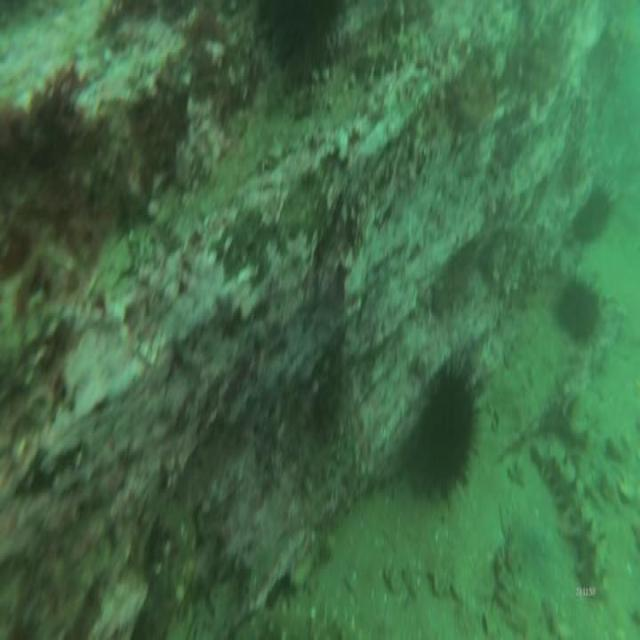echinus: (409, 330, 492, 510), (252, 0, 350, 92), (553, 260, 608, 348), (566, 171, 617, 251)
holothurian: (537, 444, 616, 610), (348, 24, 418, 77)
